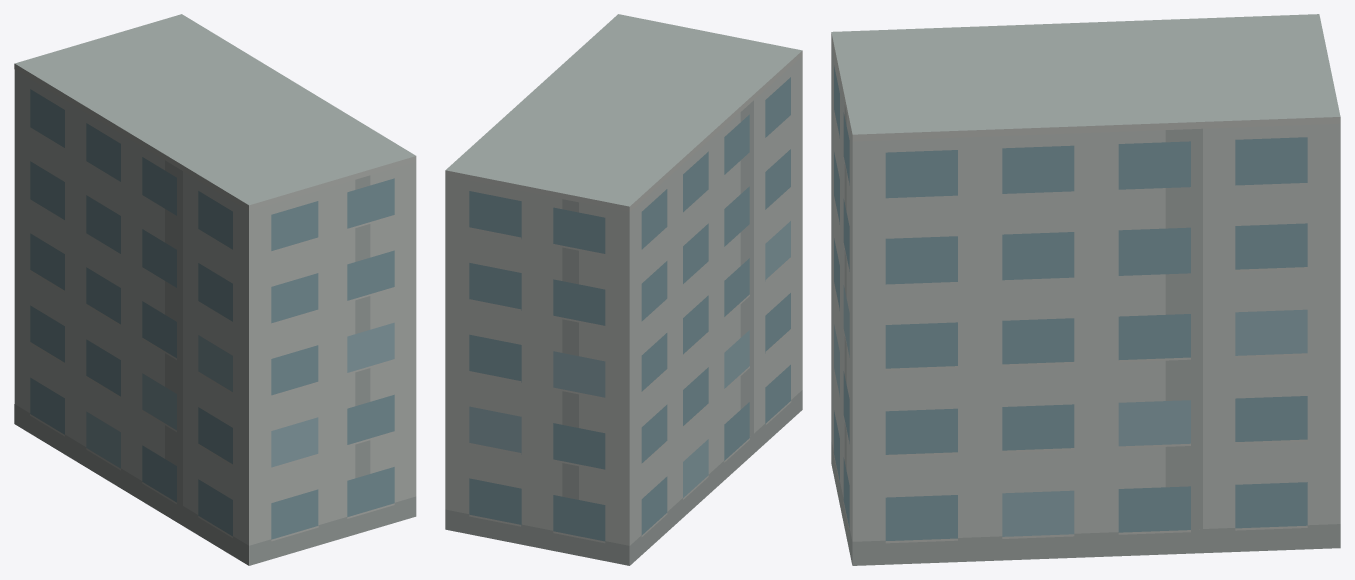
Rendered from survey-upis-32610309.glb.
The picture shows the model from 3 angles, left to right: view 1: azimuth 30°, elevation 25°; view 2: azimuth 150°, elevation 25°; view 3: azimuth 270°, elevation 25°; orthographic projection. The views are drawn at different scales.
Visible parts, largest first — view 1: survey-upis-32610309.tmp; view 2: survey-upis-32610309.tmp; view 3: survey-upis-32610309.tmp.
Part boxes in pixels (<box>): survey-upis-32610309.tmp: <box>14,14,416,565</box>; survey-upis-32610309.tmp: <box>445,14,802,565</box>; survey-upis-32610309.tmp: <box>831,14,1340,565</box>.
Size of the model in its own units: 9.16 by 15.25 by 16.33.
